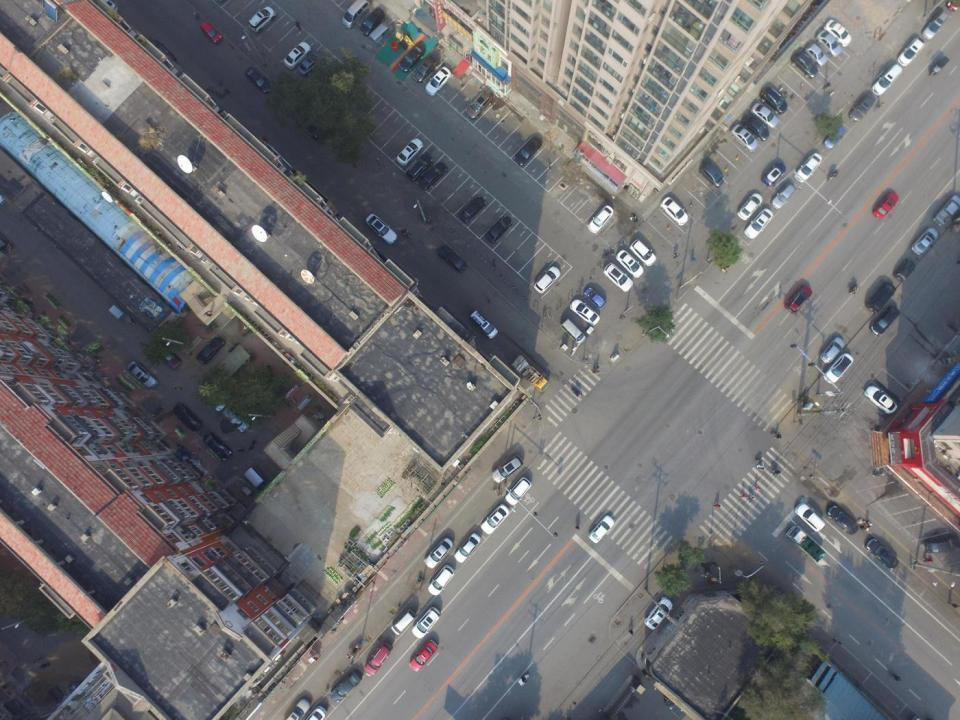car: (864, 537, 899, 570), (328, 670, 363, 701), (363, 640, 393, 676), (863, 385, 897, 416), (643, 596, 674, 630), (294, 110, 326, 142), (794, 502, 826, 533), (742, 208, 774, 239), (823, 352, 854, 384), (870, 305, 901, 337), (126, 359, 158, 390), (424, 536, 454, 569), (365, 214, 398, 244), (490, 454, 524, 483), (411, 606, 441, 638), (408, 639, 438, 671), (826, 505, 858, 535), (603, 262, 634, 292), (453, 532, 482, 564), (568, 298, 601, 326), (150, 344, 184, 371), (480, 504, 510, 534), (195, 336, 225, 366), (173, 402, 203, 432), (202, 432, 233, 461), (428, 564, 456, 596), (436, 245, 468, 273), (932, 194, 959, 227), (784, 285, 813, 315), (659, 196, 688, 226), (514, 136, 543, 166), (418, 161, 448, 190), (896, 36, 925, 66), (730, 124, 759, 153), (615, 249, 644, 278), (910, 227, 939, 256), (406, 152, 434, 182), (466, 90, 494, 120), (794, 153, 822, 183), (750, 101, 780, 129), (629, 238, 657, 267), (245, 66, 274, 94), (759, 86, 788, 114), (848, 93, 876, 122), (823, 20, 852, 48), (588, 514, 615, 544), (505, 476, 532, 506), (533, 266, 561, 294), (396, 138, 424, 166), (248, 6, 276, 34), (790, 51, 818, 79), (736, 192, 763, 221), (587, 204, 614, 233), (284, 41, 311, 70), (741, 114, 770, 141), (425, 66, 451, 96), (459, 196, 486, 224), (398, 45, 426, 72), (412, 54, 439, 82), (815, 29, 842, 57), (222, 406, 250, 433), (297, 51, 326, 77), (360, 8, 386, 37), (922, 11, 948, 40), (872, 192, 899, 219), (486, 216, 512, 243), (819, 336, 845, 363), (771, 182, 796, 209), (283, 696, 311, 720), (700, 162, 724, 188), (199, 20, 223, 45), (761, 163, 786, 187), (804, 43, 828, 67), (893, 258, 916, 282), (824, 125, 846, 149), (584, 287, 606, 310), (301, 705, 327, 720)
truck: (786, 524, 826, 564), (511, 354, 549, 392)
van: (870, 63, 903, 96), (244, 467, 276, 501), (866, 281, 896, 314), (469, 310, 499, 340), (341, 0, 371, 29), (560, 318, 586, 345), (390, 609, 416, 635), (923, 535, 960, 553), (368, 21, 394, 46)
